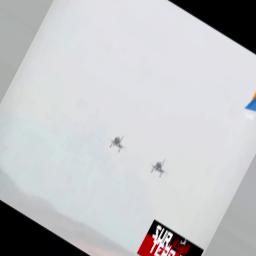Airplane: (149, 158, 169, 177), (108, 134, 126, 151)
